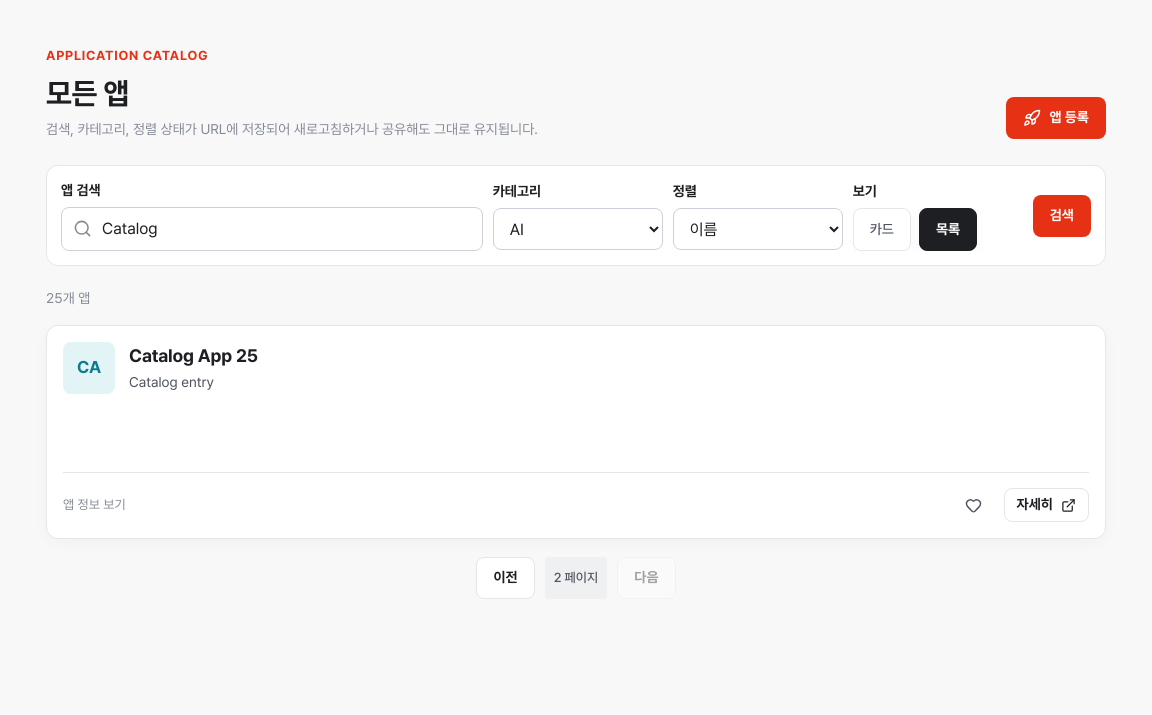
Scenario: Apps route state › still resets to page one after a category change
Expected: the heading "Catalog App 25" is shown, [129,343,258,369]
Select "전체 카테고리" in the dropdown labelled "카테고리" at {"x": 578, "y": 229}, box [493,208,663,250]
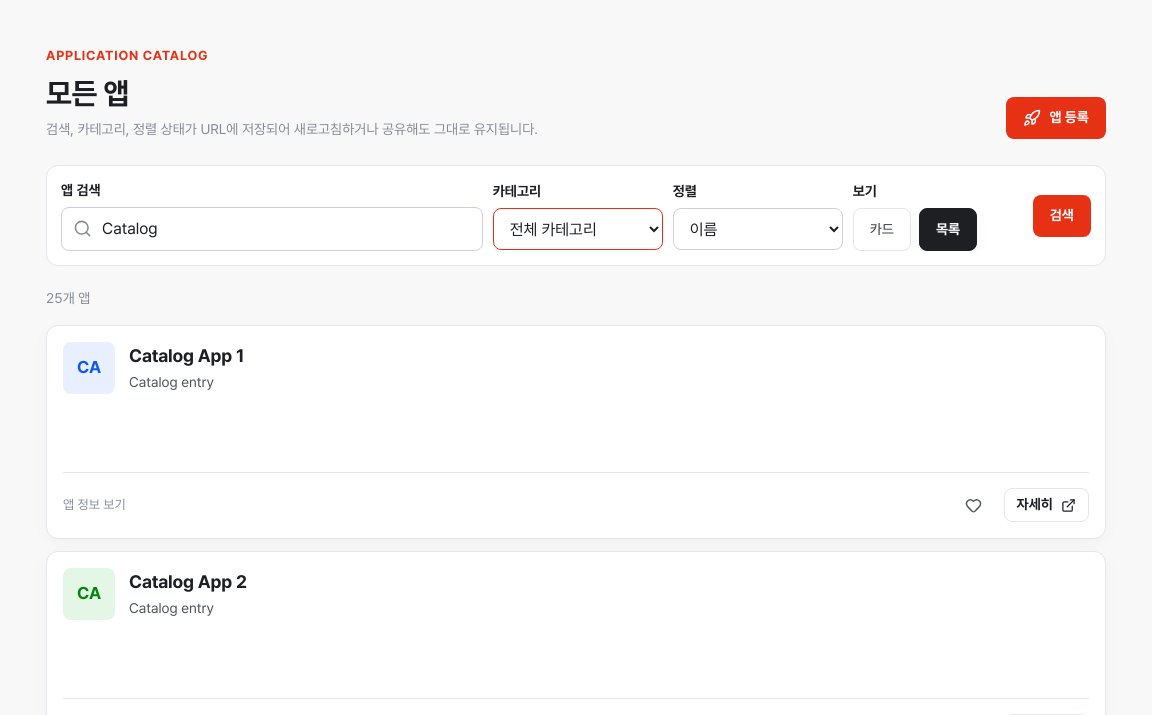
Expected: the heading "Catalog App 1" is shown, [129,343,244,369]
